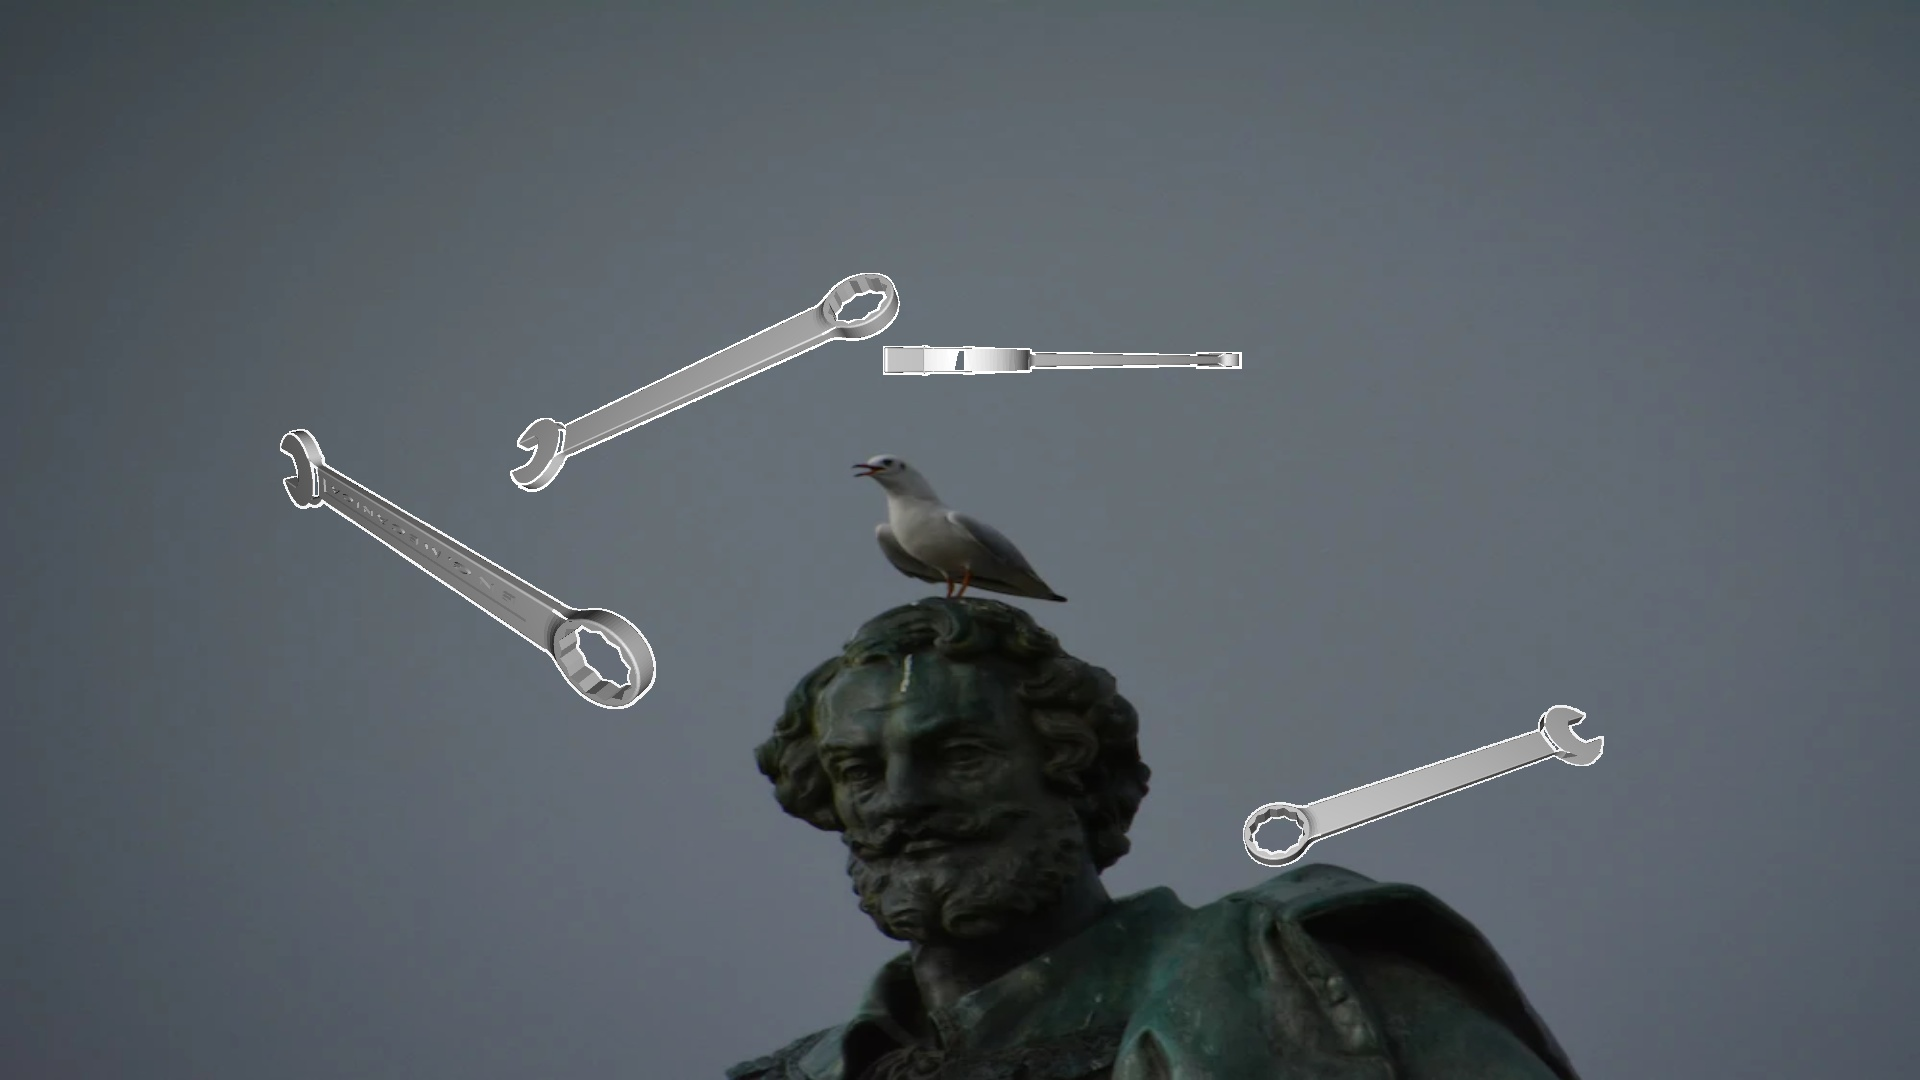Mixed Key: (5, 618, 438, 1058), (1453, 342, 1764, 785), (280, 429, 655, 708), (510, 273, 899, 491), (0, 198, 185, 632), (1244, 705, 1604, 866), (1509, 0, 1607, 142), (884, 345, 1241, 375), (98, 0, 157, 109)
